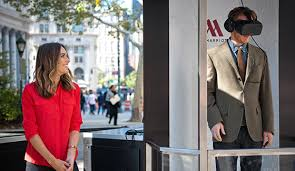oculus: (225, 19, 265, 37)
